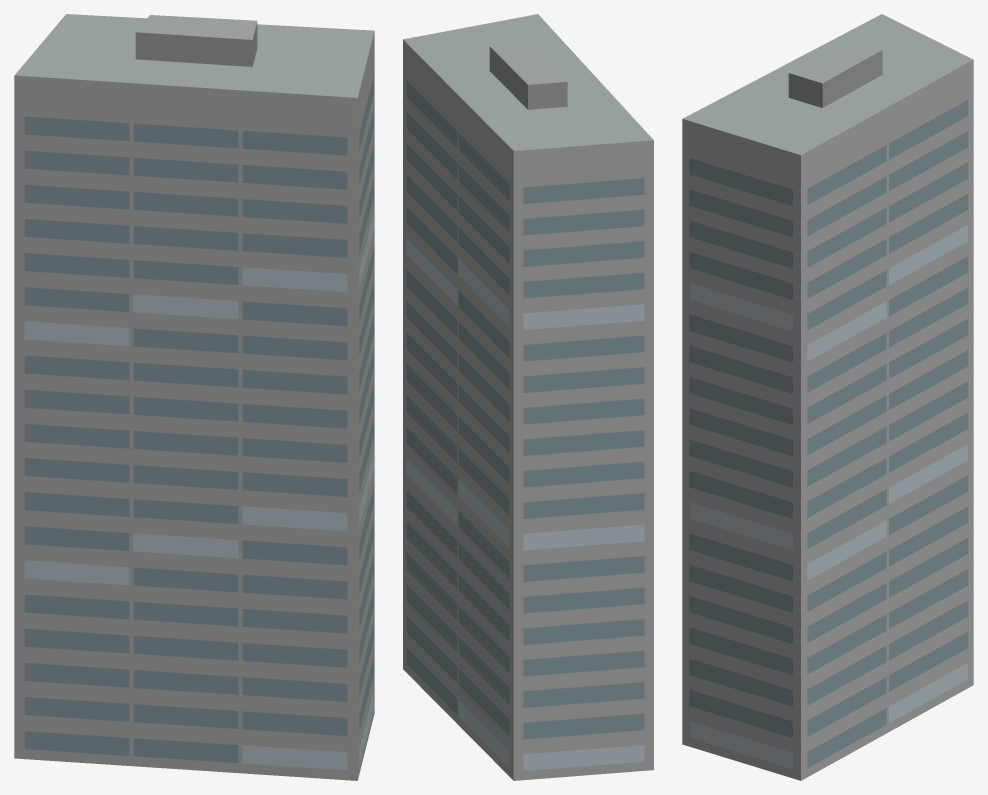
The model's file is fallback-godeok-gracium-152.glb.
3 renders of one model, left to right at view 1: azimuth 30°, elevation 25°; view 2: azimuth 150°, elevation 25°; view 3: azimuth 270°, elevation 25°, orthographic. The views are drawn at different scales.
Parts seen in each view (by area): view 1: fallback-godeok-gracium-152; view 2: fallback-godeok-gracium-152; view 3: fallback-godeok-gracium-152.
Boxes of the visible parts, left/top/right/bottom form: fallback-godeok-gracium-152: left=14, top=14, right=374, bottom=780; fallback-godeok-gracium-152: left=403, top=14, right=653, bottom=780; fallback-godeok-gracium-152: left=682, top=14, right=973, bottom=780.
Size of the model in its own units: 29.35 by 63 by 25.56.
